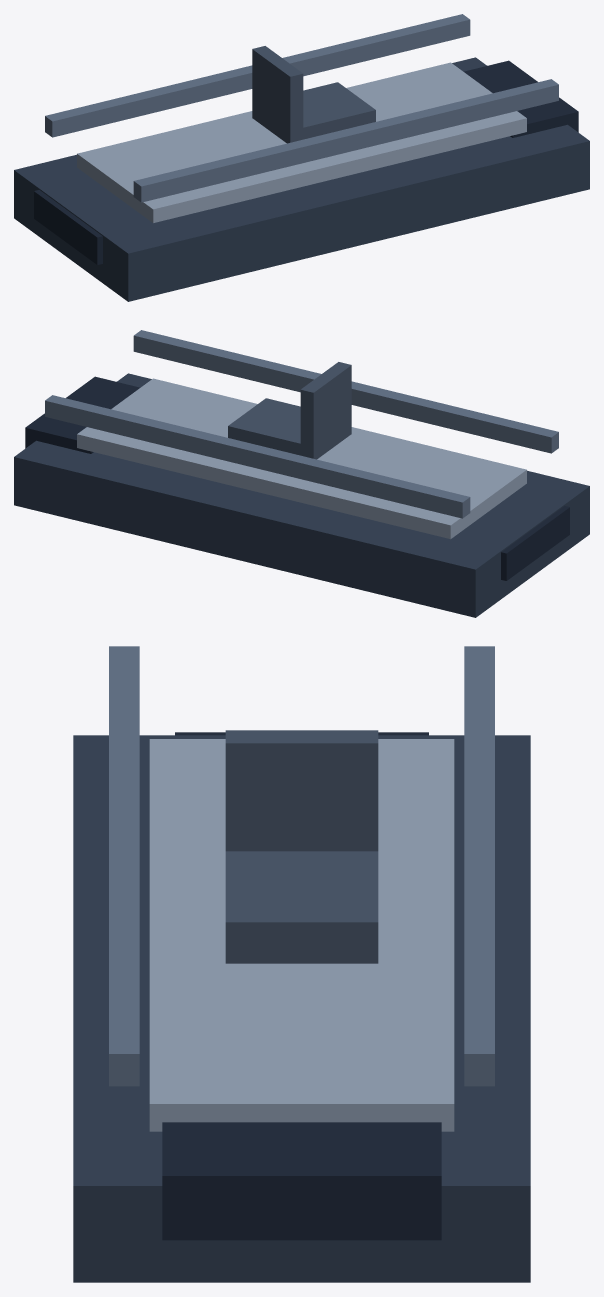
File: metaverse-hub-skiff.gltf
The picture shows the model from 3 angles, top to bottom: view 1: azimuth 30°, elevation 25°; view 2: azimuth 150°, elevation 25°; view 3: azimuth 270°, elevation 25°; orthographic projection. The views are drawn at different scales.
Bounding box in the file's own units: 4.35 × 1.29 × 1.8.
